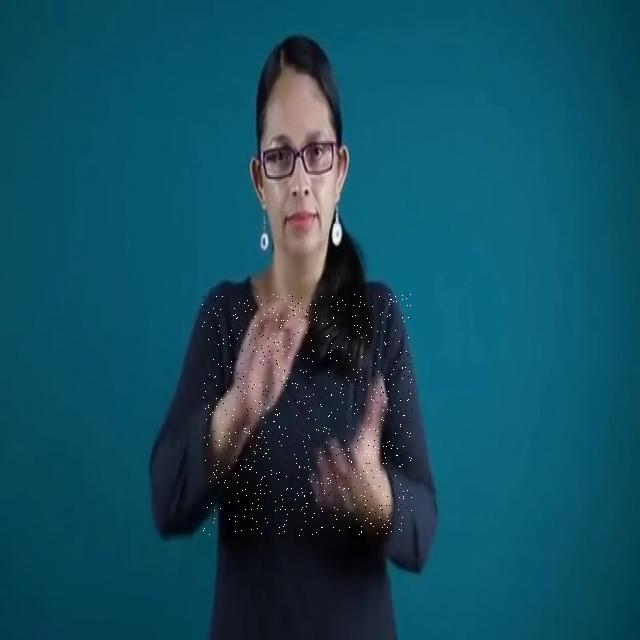burger: (202, 294, 412, 536)
